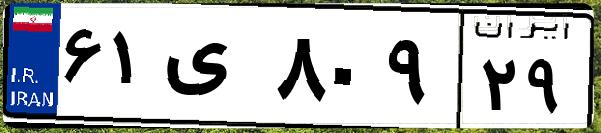0: (330, 28, 385, 110)
1: (110, 28, 158, 98)
2: (475, 38, 525, 113)
6: (57, 26, 110, 100)
8: (270, 28, 330, 110)
9: (385, 28, 445, 110), (525, 38, 570, 115)
ی: (158, 20, 270, 120)
